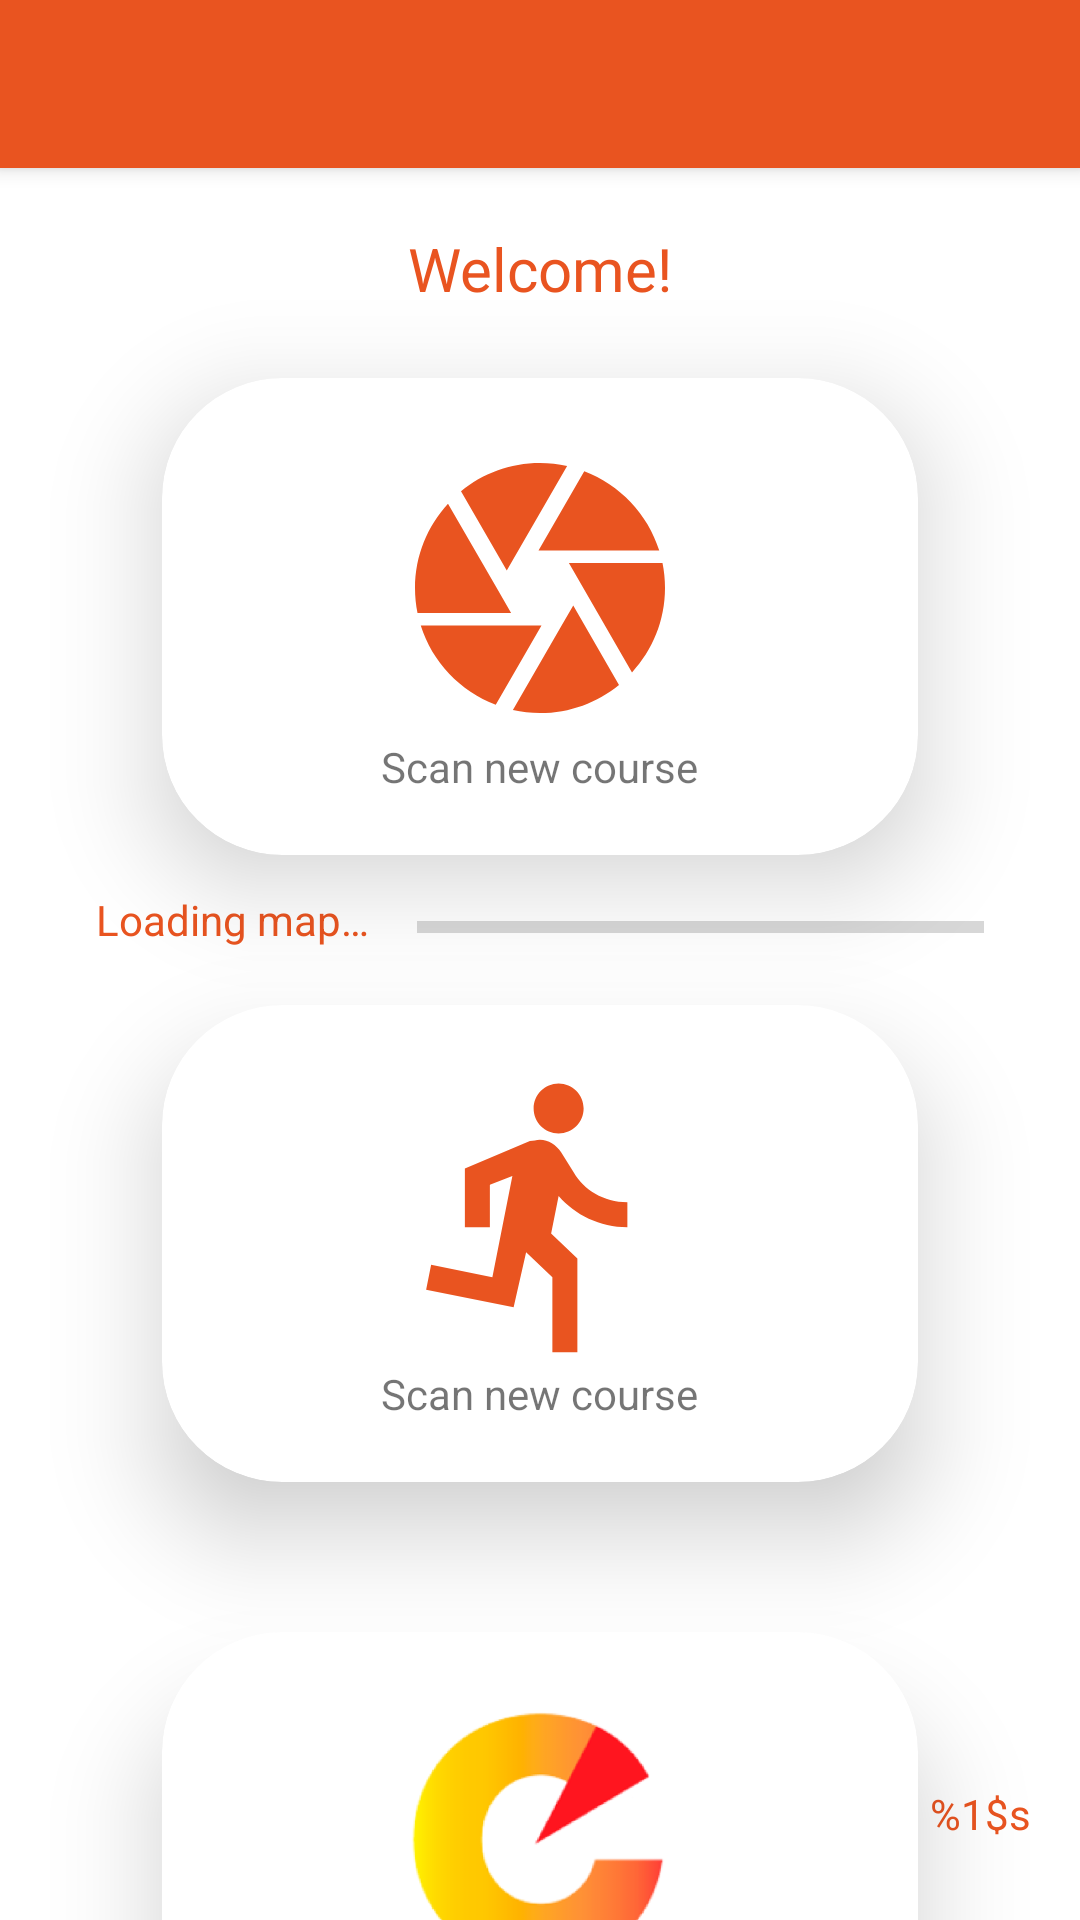

Named icons in this screenshot (1080 × 1920) and their centers, point (x, y):
camera: point (540, 588)
run: point (527, 1218)
